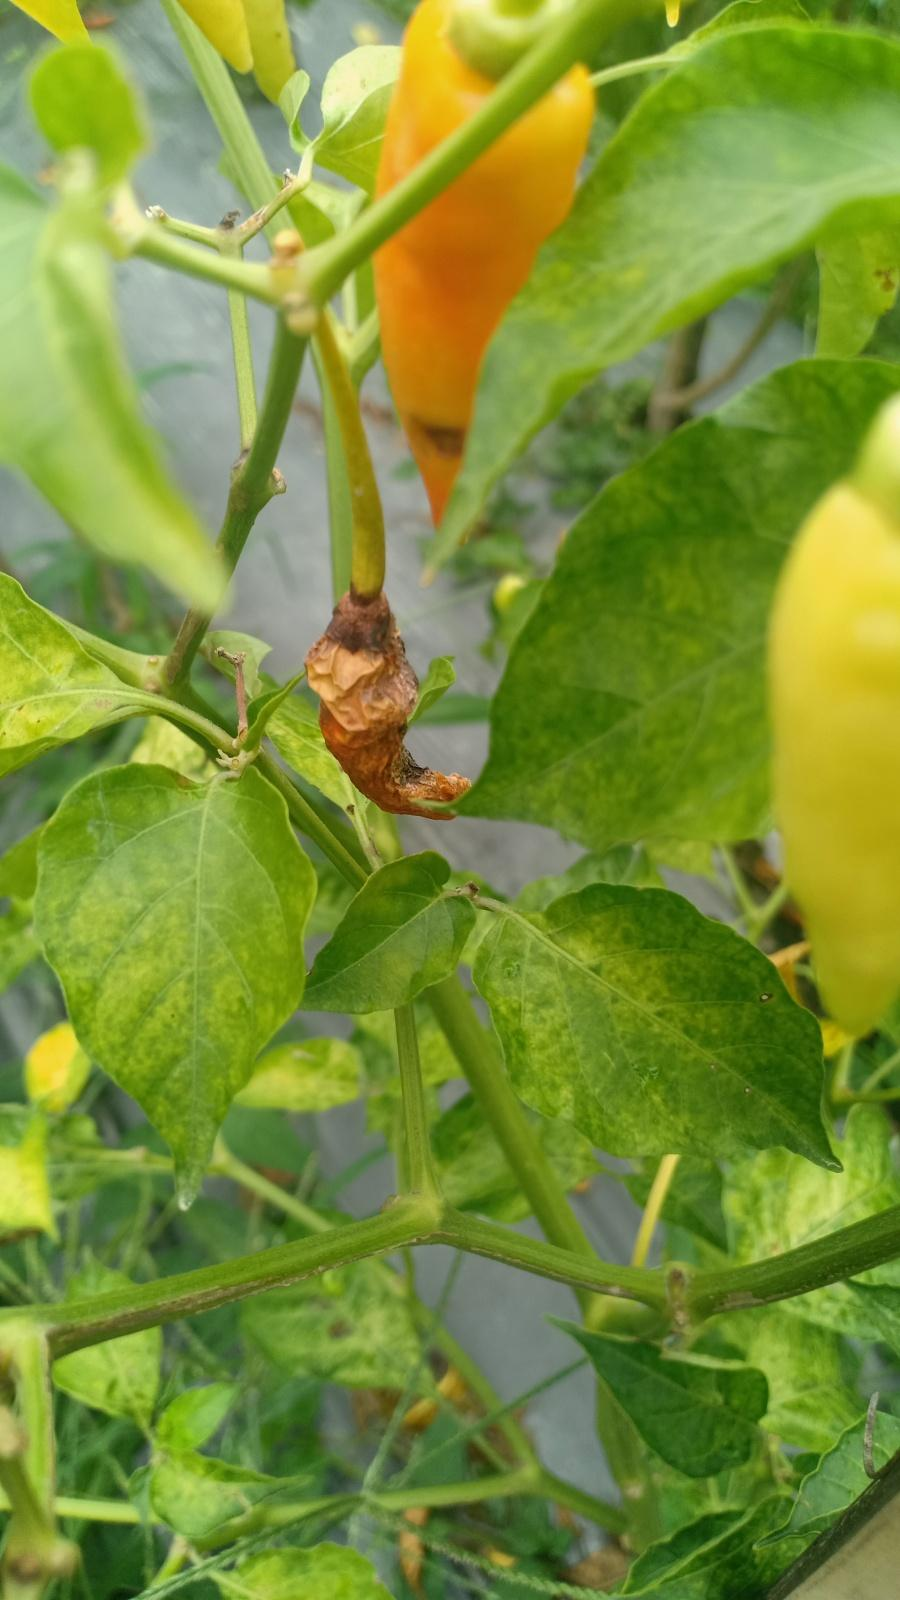antraknosa: (303, 614, 480, 832)
cabai_normal: (373, 5, 599, 534), (771, 458, 900, 1043)
